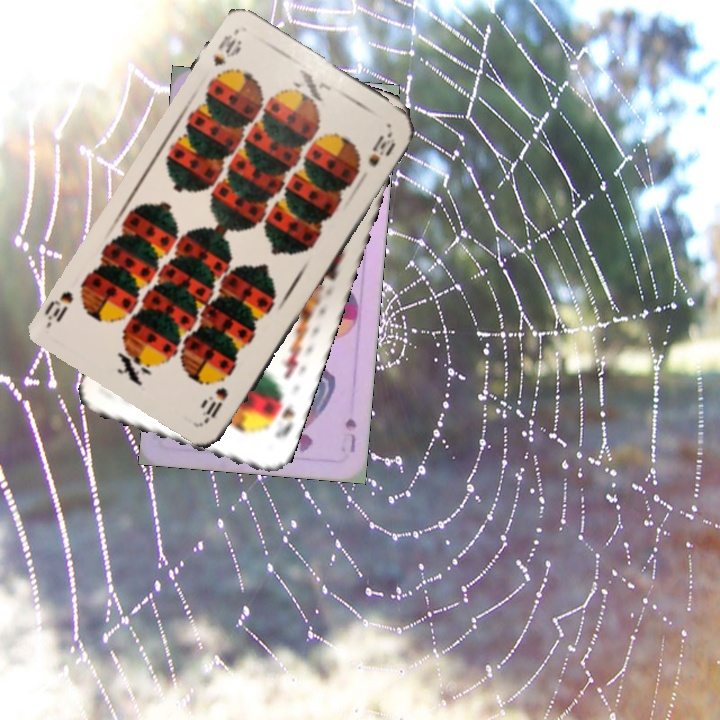S10: (208, 28, 245, 69), (199, 383, 231, 424)
SK: (264, 389, 297, 441)
SU: (336, 414, 359, 455)
